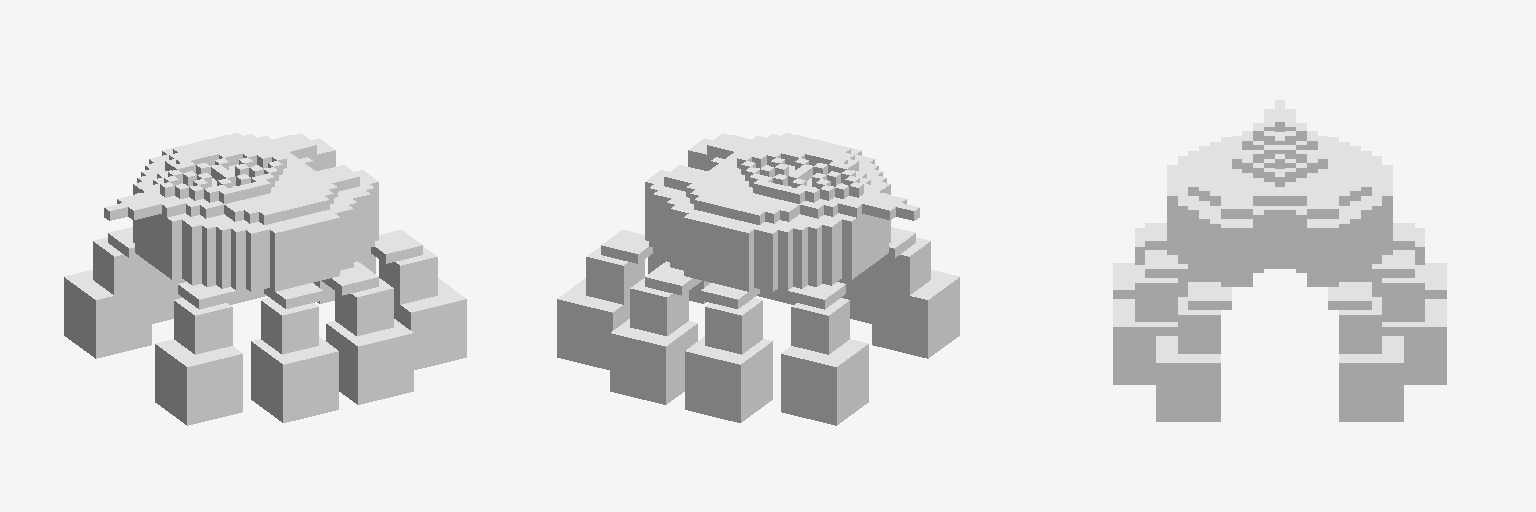
File: SpiderForGameJamFemale.obj
3 renders of one model, left to right at view 1: azimuth 30°, elevation 25°; view 2: azimuth 150°, elevation 25°; view 3: azimuth 270°, elevation 25°, orthographic.
Visible parts, largest first — view 1: SpiderForGameJamFemale; view 2: SpiderForGameJamFemale; view 3: SpiderForGameJamFemale.
Boxes of the visible parts, box(x1,y1,x2,y2) form: SpiderForGameJamFemale: box(64, 133, 466, 425); SpiderForGameJamFemale: box(557, 133, 959, 425); SpiderForGameJamFemale: box(1113, 100, 1446, 421).
Bounding box in the file's own units: 32 × 19 × 31.